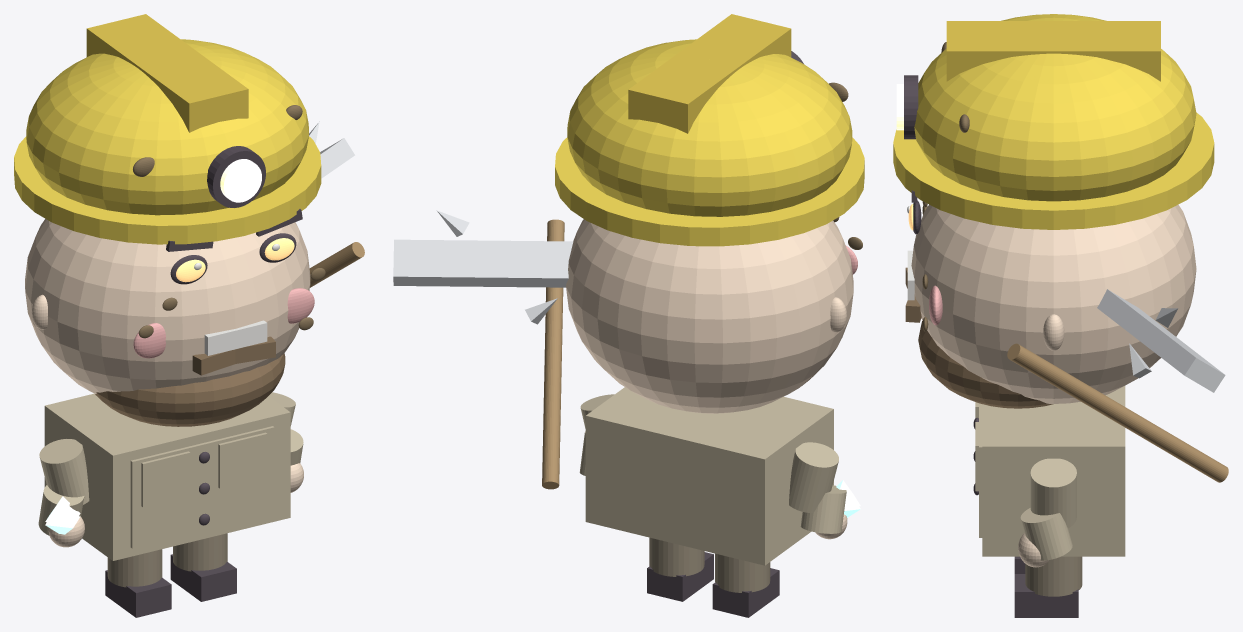
The model's file is miner.glb.
3 views of the same model, side by side, from view 1: azimuth 30°, elevation 25°; view 2: azimuth 150°, elevation 25°; view 3: azimuth 270°, elevation 25° (orthographic). The views are drawn at different scales.
Visible parts, largest first — view 1: Head, HardHat, Coat, HardHatBrim, HardHatRidge, CoatFront, Beard, UpperArm_L, ShirtPocket_L, ShirtPocket_R, Shoe_L, Shoe_R (+16 smaller); view 2: Head, HardHat, Coat, HardHatBrim, HardHatRidge, PickHead, PickHandle, UpperArm_L, Leg_L, Leg_R, Shoe_L, Shoe_R (+1 smaller); view 3: Head, HardHat, Coat, HardHatBrim, HardHatRidge, PickHandle, PickHead, Beard, UpperArm_R, Leg_R, Shoe_R, Forearm_R (+4 smaller).
Part boxes in pixels (x1,y1,x2,y2): Head: [25, 219, 310, 393]; HardHat: [26, 39, 308, 215]; Coat: [44, 393, 290, 560]; HardHatBrim: [14, 136, 321, 244]; HardHatRidge: [86, 14, 248, 132]; CoatFront: [130, 426, 274, 548]; Beard: [95, 353, 285, 426]; UpperArm_L: [39, 439, 89, 504]; ShirtPocket_L: [141, 451, 190, 507]; ShirtPocket_R: [218, 432, 267, 488]; Shoe_L: [105, 570, 171, 617]; Shoe_R: [170, 554, 236, 601]; Head: [566, 219, 853, 413]; HardHat: [567, 39, 852, 216]; Coat: [585, 387, 833, 565]; HardHatBrim: [555, 137, 864, 246]; HardHatRidge: [628, 14, 791, 133]; PickHead: [393, 239, 573, 287]; PickHandle: [542, 219, 564, 489]; UpperArm_L: [789, 442, 838, 512]; Leg_L: [715, 553, 770, 592]; Leg_R: [649, 537, 704, 576]; Shoe_L: [712, 568, 779, 617]; Shoe_R: [647, 552, 713, 601]; Head: [911, 204, 1196, 403]; HardHat: [914, 14, 1196, 201]; Coat: [982, 386, 1125, 556]; HardHatBrim: [893, 112, 1214, 229]; HardHatRidge: [946, 21, 1160, 81]; PickHandle: [1007, 343, 1228, 482]; PickHead: [1097, 289, 1225, 392]; Beard: [918, 321, 1053, 408]; UpperArm_R: [1030, 458, 1076, 528]; Leg_R: [1025, 556, 1082, 596]; Shoe_R: [1014, 574, 1078, 617]; Forearm_R: [1020, 508, 1072, 560].
Bounding box in the file's own units: 1.52 × 2 × 1.09.
